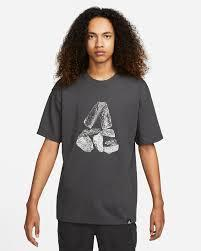Tshirt: (36, 68, 164, 233)
